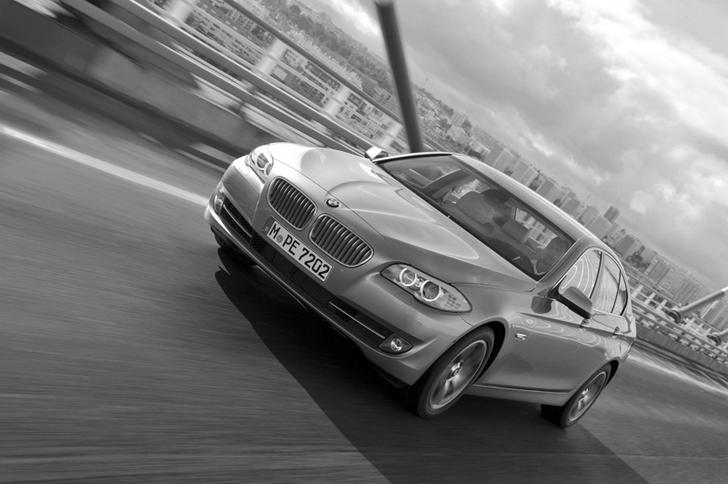car: (192, 135, 647, 437)
